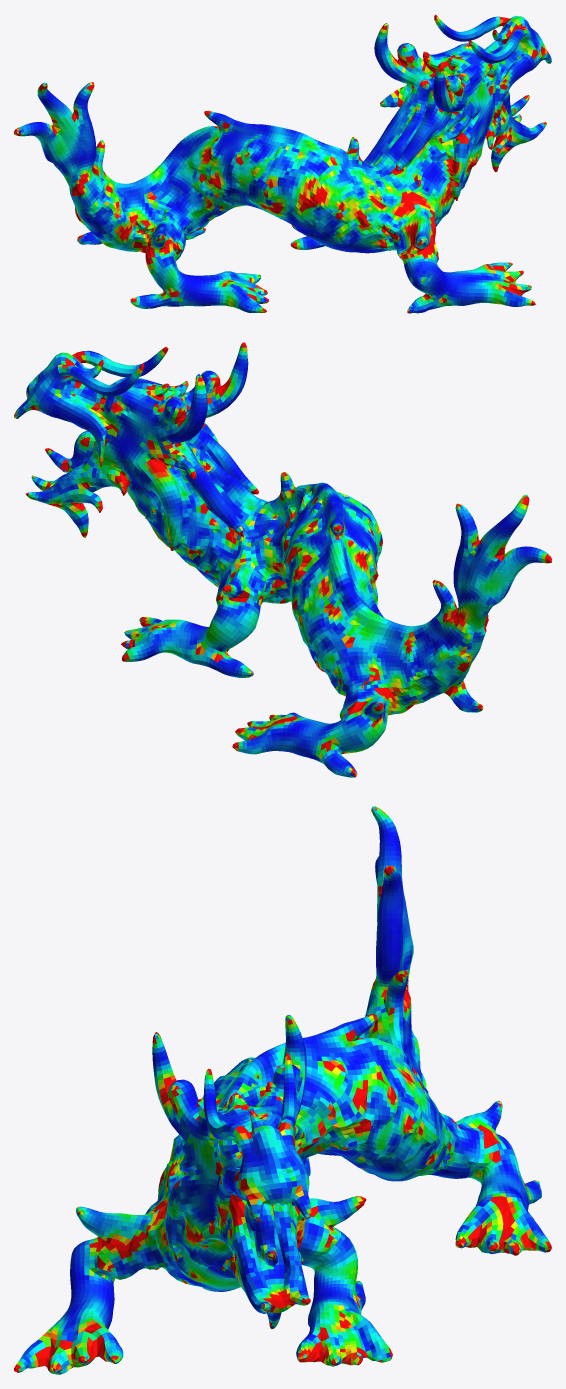
File: dragon_no_opt_quality.obj
The picture shows the model from 3 angles, top to bottom: view 1: azimuth 30°, elevation 25°; view 2: azimuth 150°, elevation 25°; view 3: azimuth 270°, elevation 25°; orthographic projection. The views are drawn at different scales.
Bounding box in the file's own units: 201 × 90.01 × 134.
